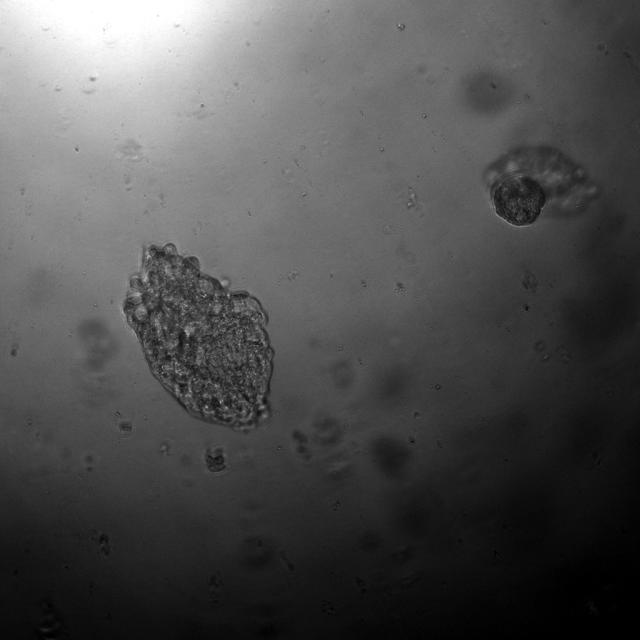organoid: (122, 243, 272, 429), (483, 146, 598, 228), (493, 174, 546, 227), (204, 446, 227, 474)
